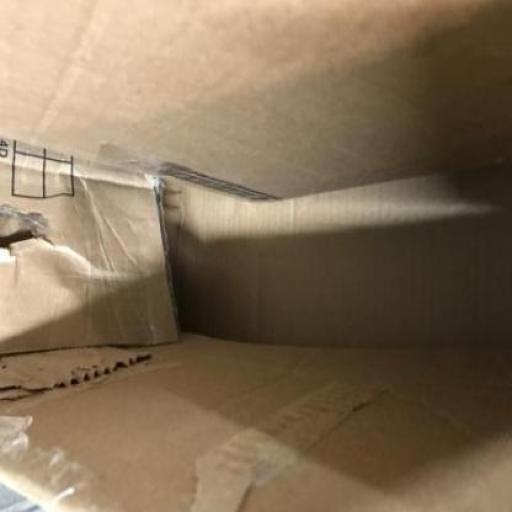cardboard: (0, 0, 511, 511), (0, 0, 512, 201), (0, 328, 511, 510), (158, 183, 512, 345)
